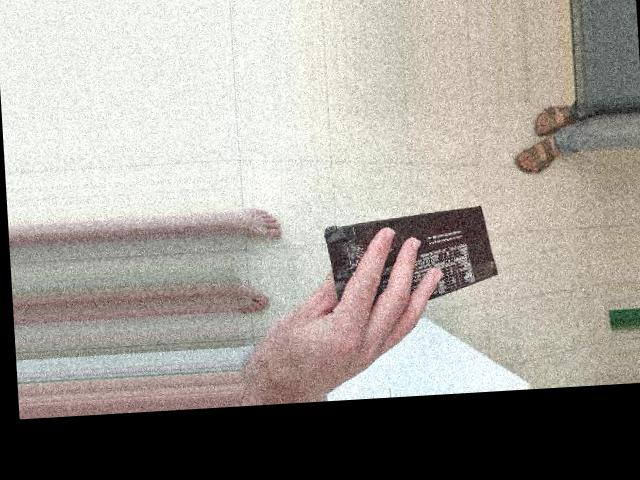chocolate: (393, 103, 514, 287)
